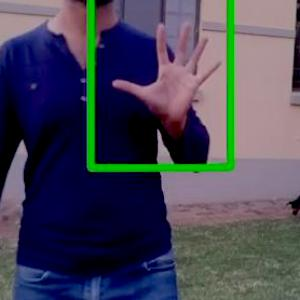follow_hand: (115, 16, 226, 128)
